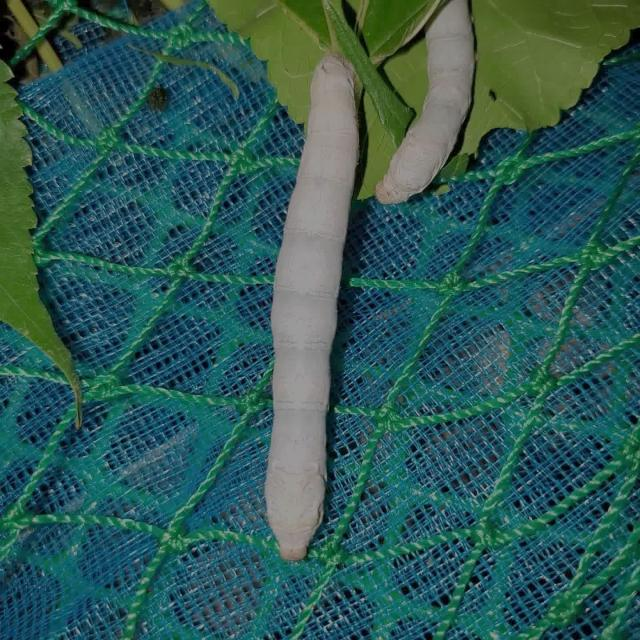Healthy: (243, 0, 368, 573)
